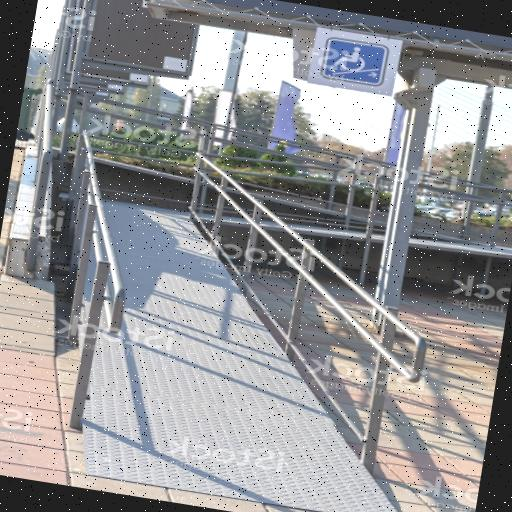ramp: (77, 201, 446, 512)
